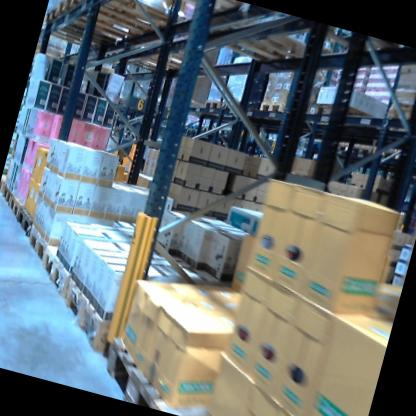pallet: (97, 333, 200, 416), (53, 271, 138, 362), (261, 9, 376, 71), (51, 0, 178, 56), (38, 0, 132, 65), (214, 9, 302, 74), (67, 0, 192, 45), (125, 0, 243, 31), (19, 222, 79, 282), (32, 237, 80, 302), (12, 205, 41, 240), (387, 97, 416, 131), (0, 170, 30, 200), (3, 191, 27, 227), (257, 99, 286, 119), (216, 96, 241, 116), (202, 93, 224, 113), (0, 182, 15, 207), (214, 126, 236, 140), (183, 120, 198, 134), (201, 122, 216, 135)
pallet_truck: (94, 97, 157, 187)
